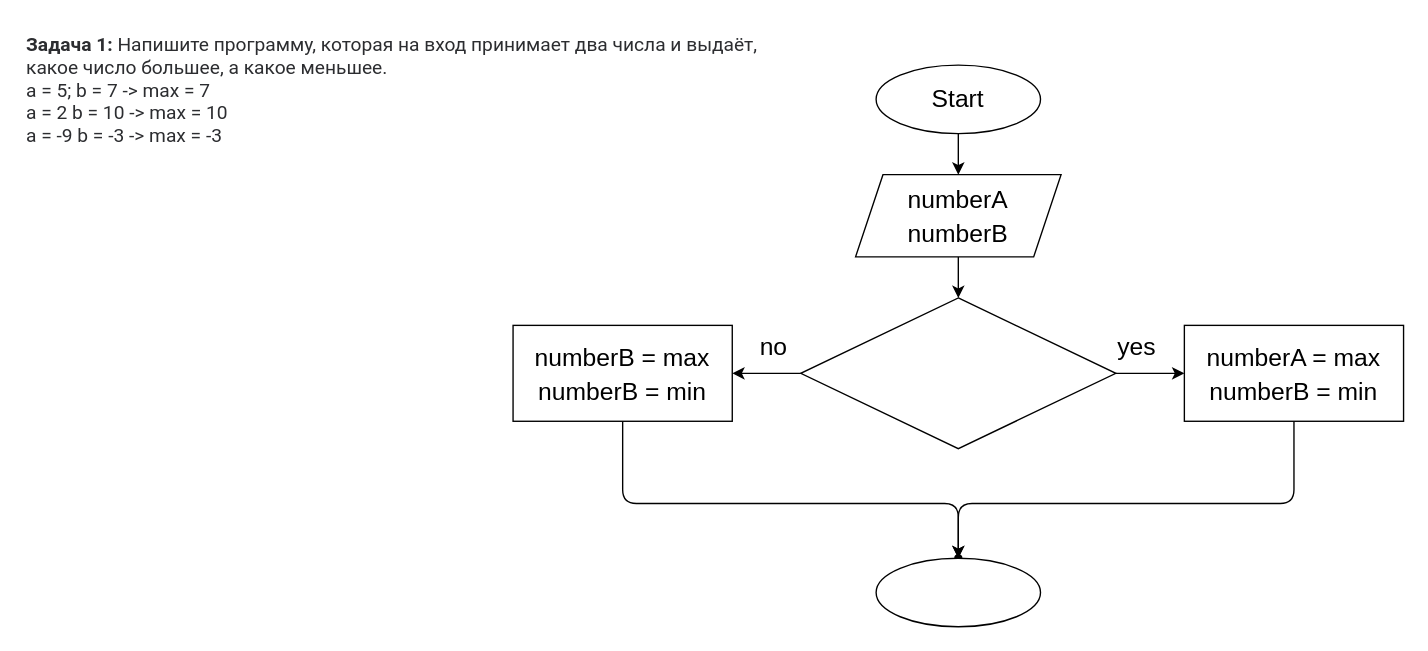
This 1428x651 diagram has some shape labels left out. The shapes that lost their labels are listed below. From the top down, each one's centre as x and y in pixels, then its label:
point 957,373: numberA > numberB
point 958,592: end
